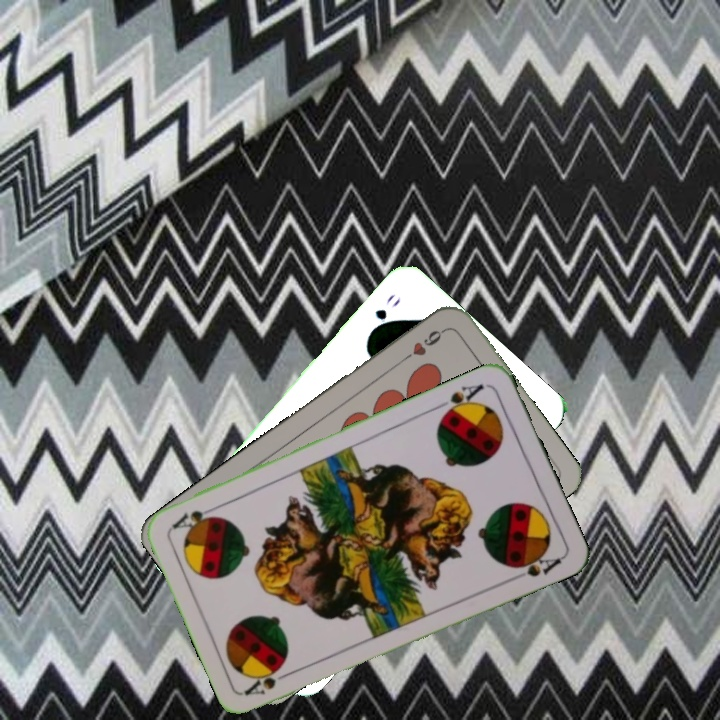GO: (365, 289, 404, 337)
H9: (398, 324, 449, 364)
SA: (432, 379, 487, 420), (241, 666, 298, 698)
